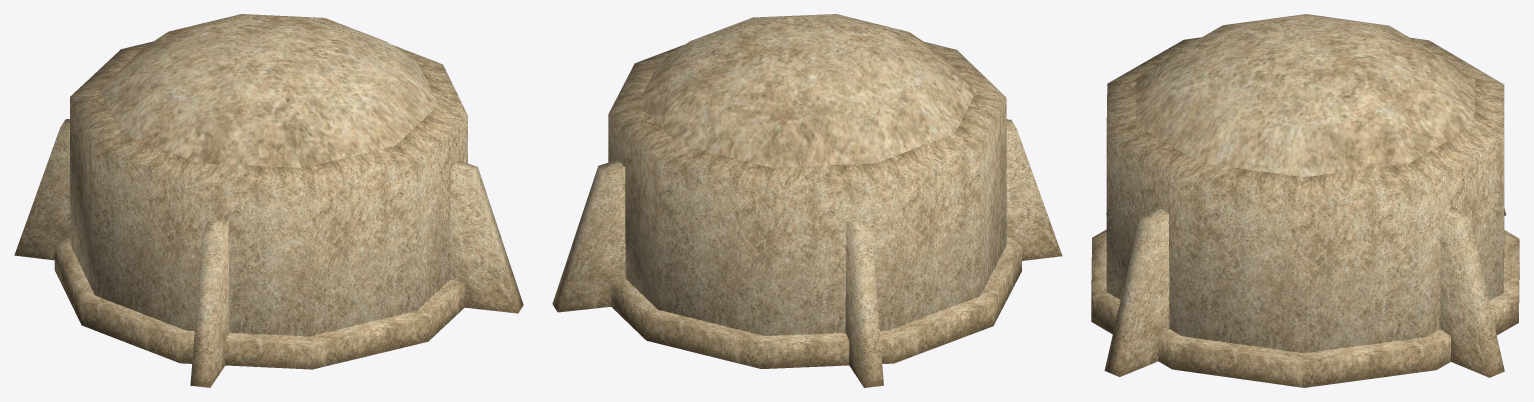
Rendered from thm_tato_jnkshp_bldg_l2.fbx.
The picture shows the model from 3 angles, left to right: view 1: azimuth 30°, elevation 25°; view 2: azimuth 150°, elevation 25°; view 3: azimuth 270°, elevation 25°; orthographic projection. The views are drawn at different scales.
Visible parts, largest first — view 1: mesh_node; view 2: mesh_node; view 3: mesh_node.
Boxes of the visible parts, x1,y1,x2,y2 form: mesh_node: (14, 14, 523, 387); mesh_node: (552, 14, 1062, 387); mesh_node: (1091, 14, 1519, 387).
Bounding box in the file's own units: 9.05 × 5.61 × 8.62.
1 material, 1 textured.
